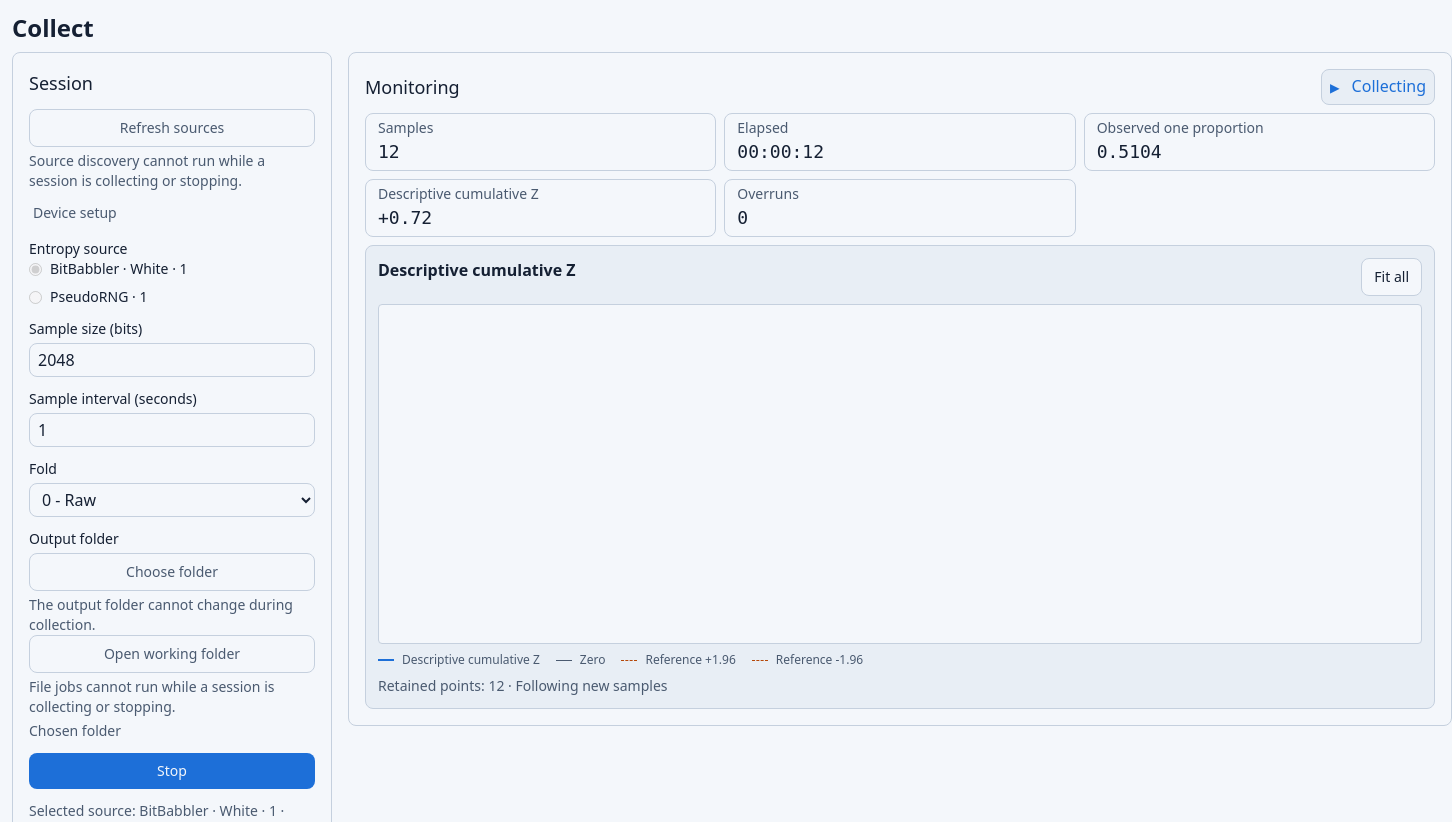
Test: CollectionControls › stops collection into a completed summary
Click the button "Stop" at (172, 771), box top-left (29, 753), bottom-right (315, 789)
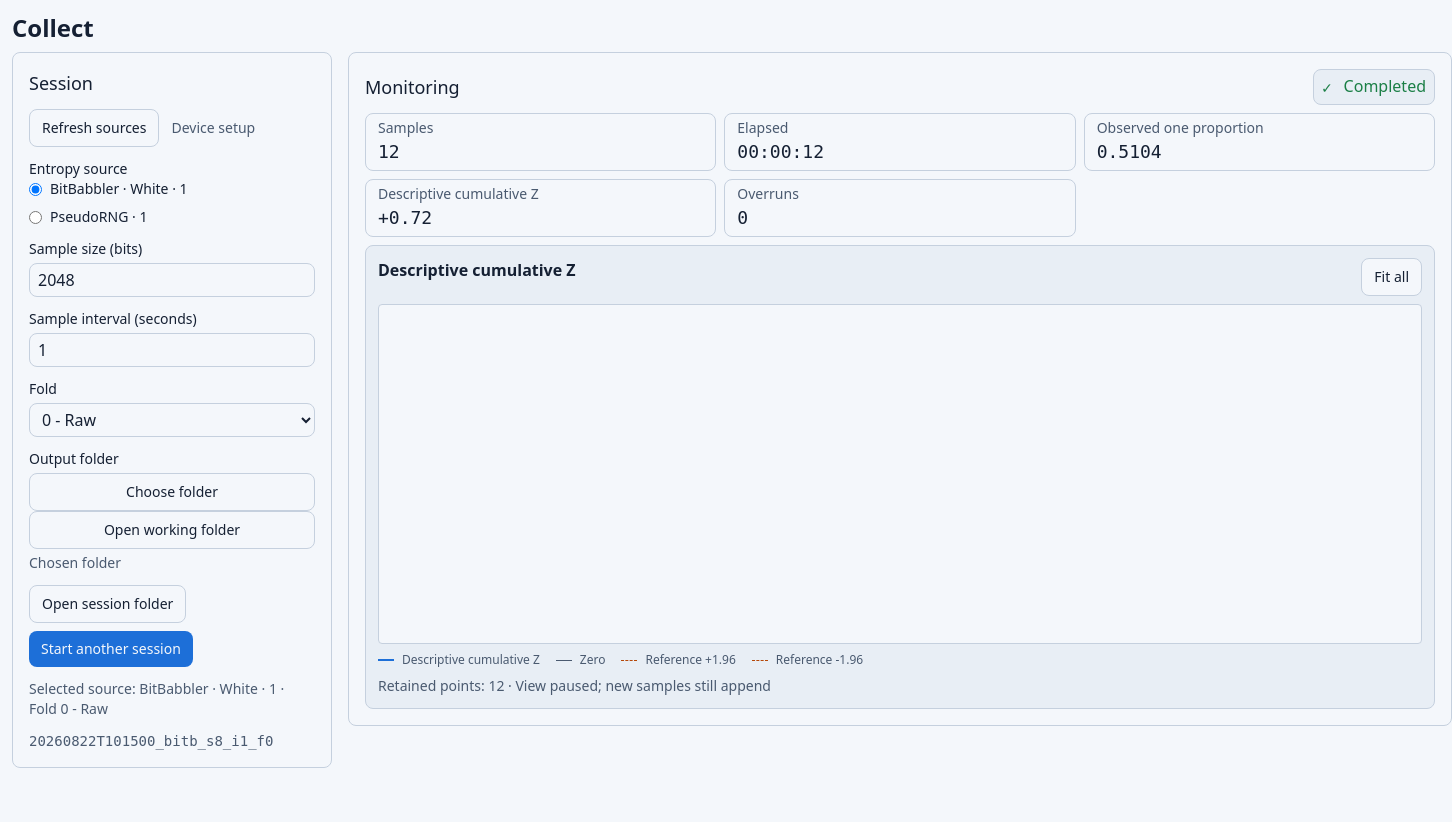
Now the button "Open session folder" is shown, box top-left (29, 585), bottom-right (186, 623)
Now the button "Start another session" is shown, box top-left (29, 631), bottom-right (193, 667)
